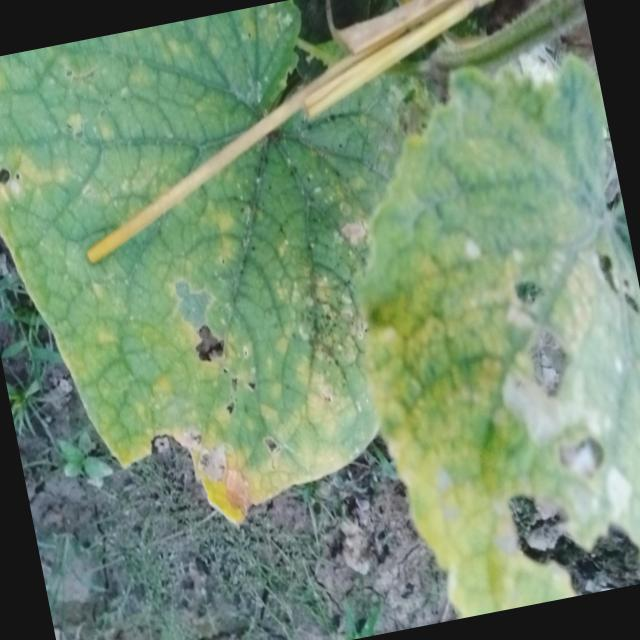cucumber_anthracnose: (351, 99, 640, 608), (52, 179, 386, 539), (0, 55, 51, 299)
